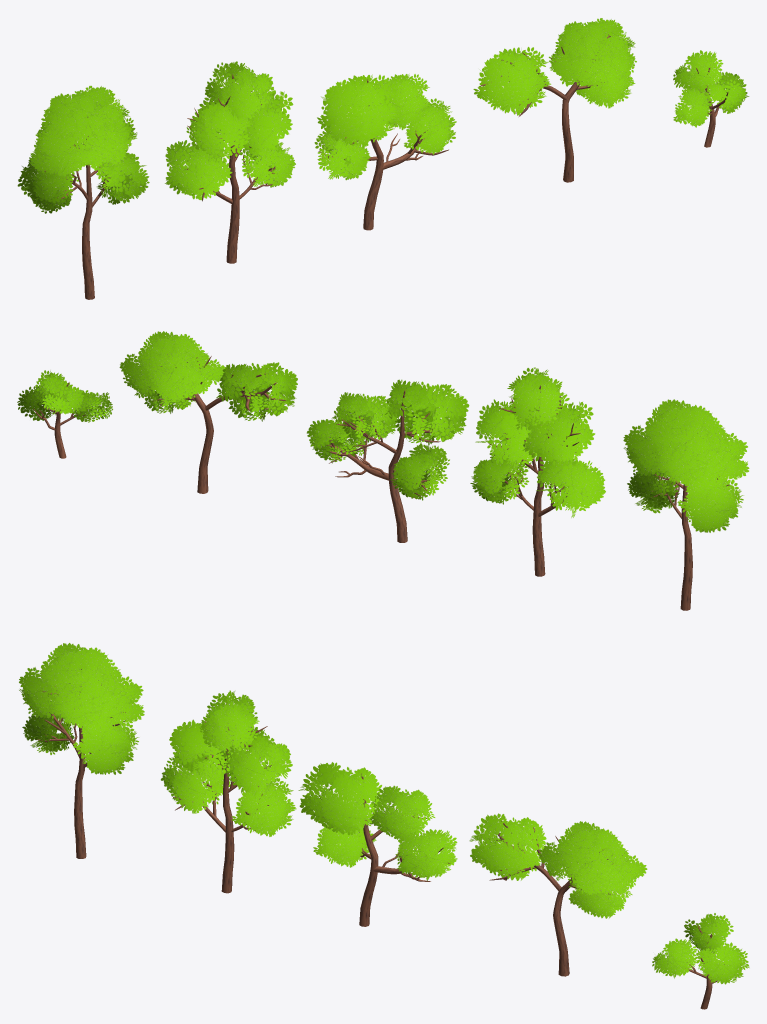
Rendered from Trees.glb.
3 views of the same model, one above another, from view 1: azimuth 30°, elevation 25°; view 2: azimuth 150°, elevation 25°; view 3: azimuth 330°, elevation 25° (orthographic).
Visible parts, largest first — view 1: NormalTree_2, NormalTree_1, NormalTree_3, NormalTree_4, NormalTree_5; view 2: NormalTree_2, NormalTree_1, NormalTree_3, NormalTree_4, NormalTree_5; view 3: NormalTree_2, NormalTree_1, NormalTree_3, NormalTree_4, NormalTree_5.
Part boxes in pixels (box(x1,y1,x2,y2)): NormalTree_2: box(165, 61, 295, 263); NormalTree_1: box(17, 85, 149, 299); NormalTree_3: box(314, 74, 456, 230); NormalTree_4: box(473, 18, 636, 182); NormalTree_5: box(673, 50, 749, 147); NormalTree_2: box(470, 367, 605, 576); NormalTree_1: box(623, 399, 749, 610); NormalTree_3: box(306, 379, 469, 542); NormalTree_4: box(119, 331, 297, 493); NormalTree_5: box(17, 370, 112, 458); NormalTree_2: box(160, 690, 296, 893); NormalTree_1: box(19, 643, 144, 858); NormalTree_3: box(298, 762, 457, 926); NormalTree_4: box(469, 813, 647, 976); NormalTree_5: box(652, 913, 749, 1009).
Bounding box in the file's own units: 24.93 × 6.87 × 3.
2 materials, 2 textured.
